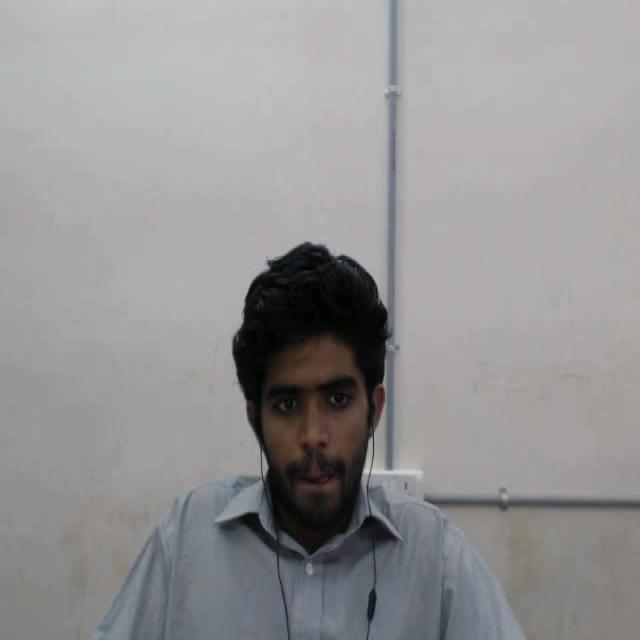Bored: (221, 214, 413, 552)
